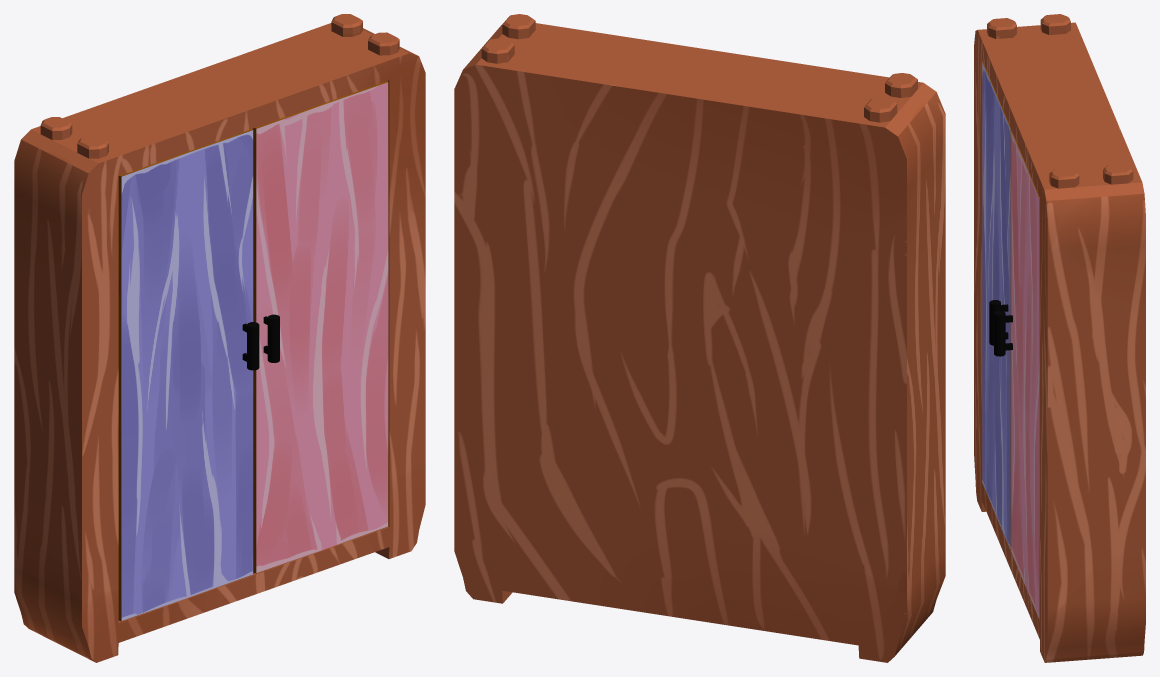
Rendered from lemariOpen.FBX.
3 renders of one model, left to right at view 1: azimuth 30°, elevation 25°; view 2: azimuth 150°, elevation 25°; view 3: azimuth 270°, elevation 25°, orthographic. The views are drawn at different scales.
Parts seen in each view (by area): view 1: Box010, Box012; view 2: Box010; view 3: Box010, Box012.
Boxes of the visible parts, <box> form: Box010: <box>14,14,425,662</box>; Box012: <box>118,129,259,621</box>; Box010: <box>454,14,945,662</box>; Box010: <box>974,14,1145,662</box>; Box012: <box>982,61,1011,550</box>.
Bounding box in the file's own units: 281 × 344 × 111.
Materials: 5 (4 with a texture image).
